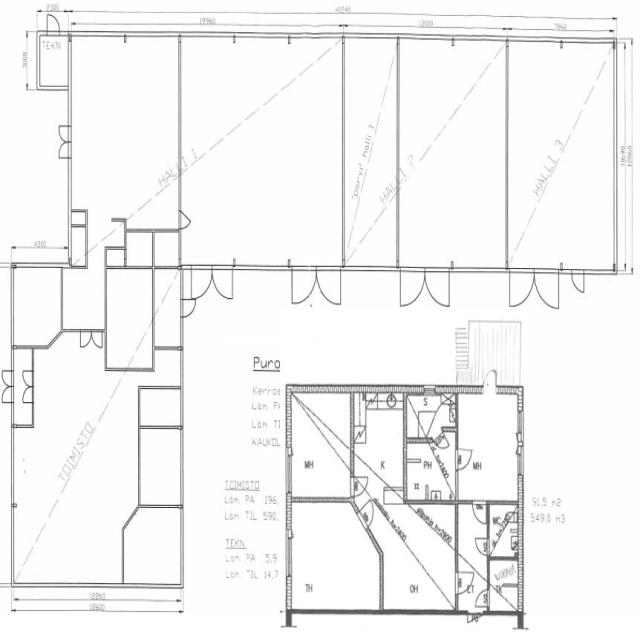door: (397, 264, 452, 312), (183, 259, 237, 304), (508, 266, 536, 310), (534, 266, 560, 313), (55, 122, 73, 160), (569, 266, 587, 296), (455, 445, 475, 471), (77, 328, 98, 352), (455, 569, 474, 595), (179, 295, 198, 319), (472, 497, 488, 525), (123, 502, 141, 526), (45, 324, 62, 349), (482, 366, 497, 391), (18, 368, 35, 389), (474, 534, 490, 556), (89, 328, 105, 350), (46, 13, 61, 36), (474, 587, 490, 608), (0, 380, 14, 404), (1, 366, 16, 388), (466, 606, 483, 625)
window: (234, 255, 290, 276), (284, 532, 296, 580), (285, 451, 295, 494), (515, 444, 525, 478), (515, 408, 525, 442), (423, 383, 438, 396)
zone: (180, 31, 346, 264), (397, 34, 508, 264), (70, 36, 181, 224), (341, 30, 399, 260), (1, 79, 70, 261), (288, 500, 382, 611), (456, 391, 521, 502), (289, 389, 352, 500), (353, 402, 405, 511), (105, 263, 153, 369), (123, 506, 182, 586), (11, 264, 62, 347), (404, 437, 458, 501), (61, 267, 106, 332), (287, 263, 343, 310), (397, 264, 452, 311), (406, 392, 456, 438), (0, 263, 13, 415), (488, 501, 519, 558), (38, 32, 69, 88), (488, 558, 520, 610), (125, 229, 154, 267)
